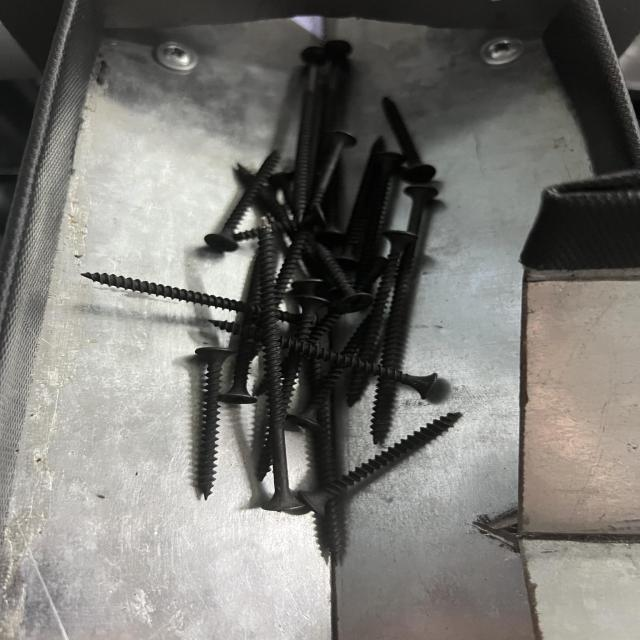screw: (194, 344, 248, 510)
